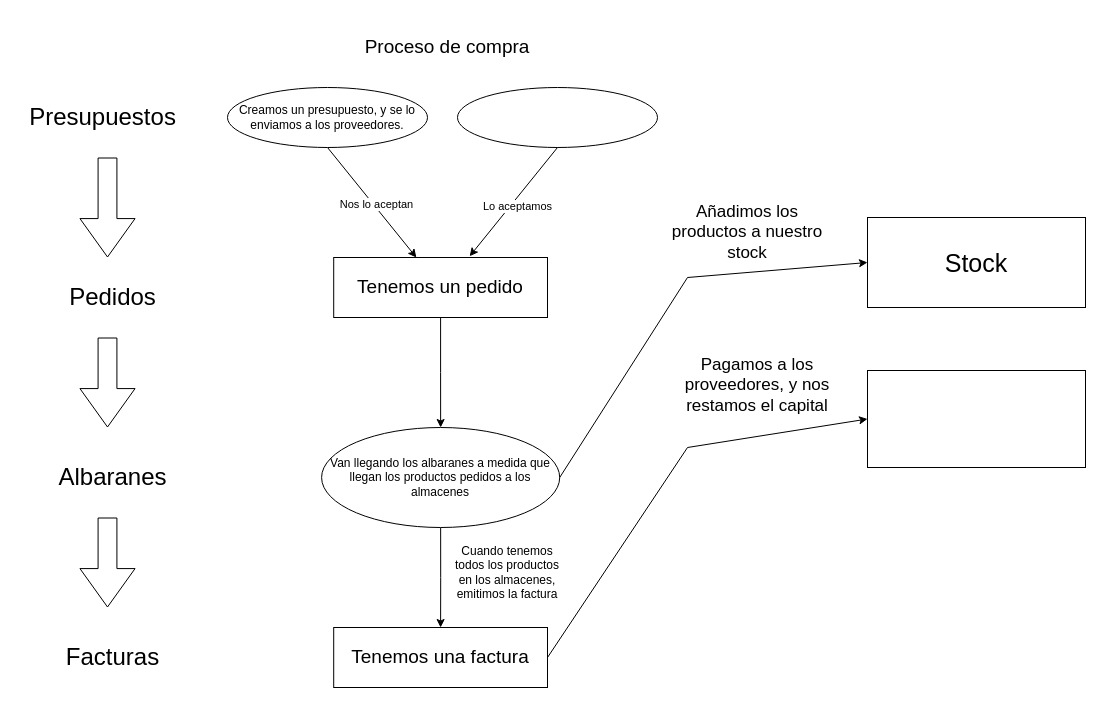
The diagram is 1103 pixels wide and 705 high, and some of its shapes have lost their labels. The shapes that lost their labels are listed below. From the top down, each one's box as (x1, y1, x2, y2) in pixels, then its label:
(456, 86, 658, 148): Le pediomos un presupuesto a los proveedores de x productos.
(866, 370, 1086, 468): Capital
